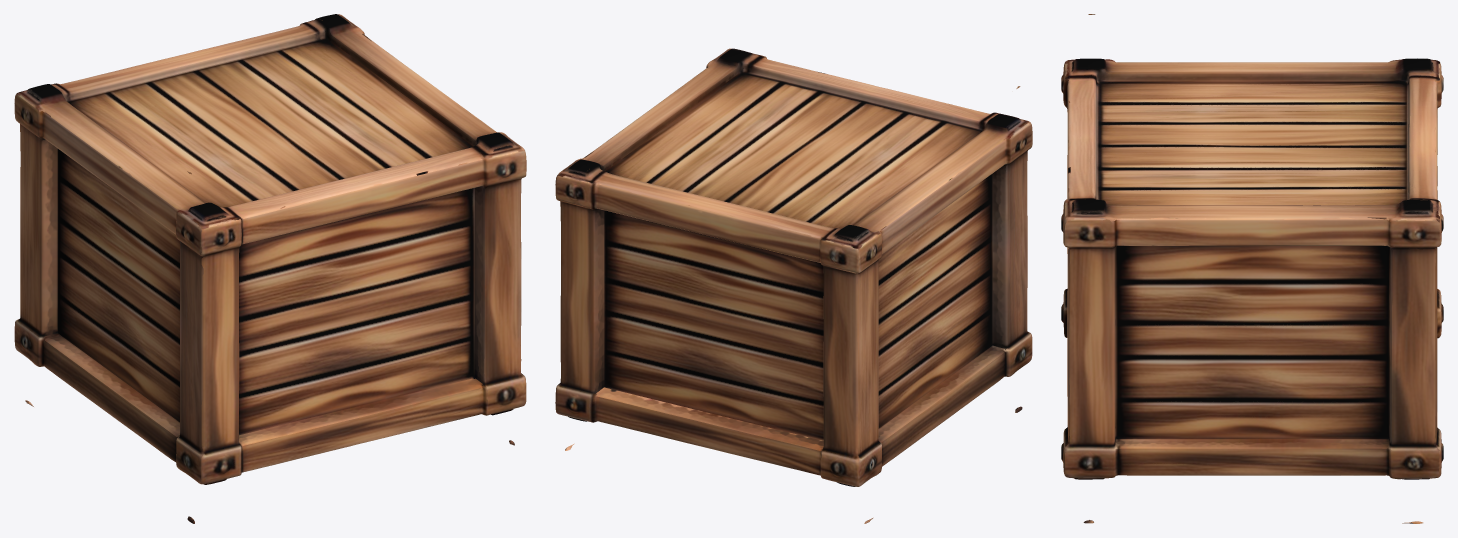
The model's file is cajon_madera.glb.
3 renders of one model, left to right at view 1: azimuth 30°, elevation 25°; view 2: azimuth 150°, elevation 25°; view 3: azimuth 270°, elevation 25°, orthographic. The views are drawn at different scales.
Parts seen in each view (by area): view 1: tmpgvtaccf8.ply; view 2: tmpgvtaccf8.ply; view 3: tmpgvtaccf8.ply.
Boxes of the visible parts, x1=… form: tmpgvtaccf8.ply: x1=14, y1=14, x2=526, y2=523; tmpgvtaccf8.ply: x1=555, y1=48, x2=1032, y2=523; tmpgvtaccf8.ply: x1=1061, y1=14, x2=1443, y2=523.
Size of the model in its own units: 0.9927 by 1 by 0.9888.
1 material, 1 textured.
